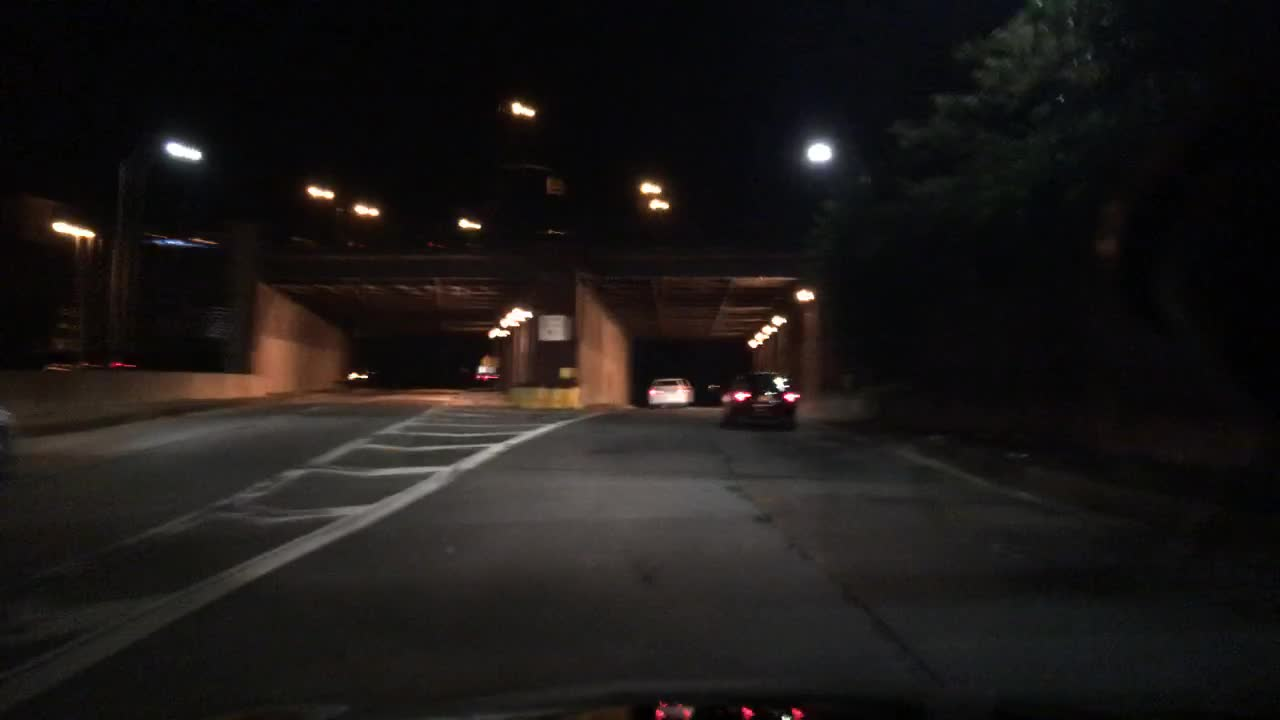car: (719, 369, 800, 432), (645, 373, 695, 404), (341, 367, 380, 383), (470, 368, 499, 383)
